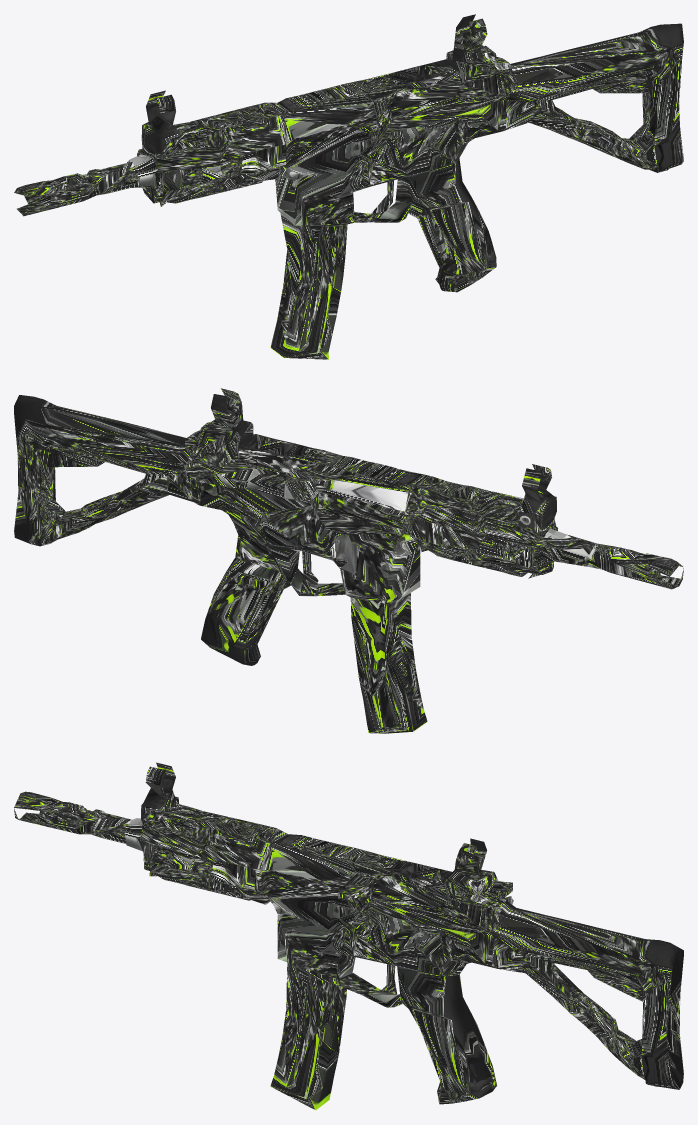
Rendered from gun_smg_lo.glb.
3 views of the same model, one above another, from view 1: azimuth 30°, elevation 25°; view 2: azimuth 150°, elevation 25°; view 3: azimuth 330°, elevation 25° (orthographic).
Visible parts, largest first — view 1: Mesh_0; view 2: Mesh_0; view 3: Mesh_0.
Boxes of the visible parts, bbox=[...] form: Mesh_0: bbox=[14, 14, 683, 359]; Mesh_0: bbox=[14, 388, 683, 733]; Mesh_0: bbox=[14, 762, 683, 1110].
Size of the model in its own units: 1.9 by 0.8247 by 0.1931.
1 material, 1 textured.
